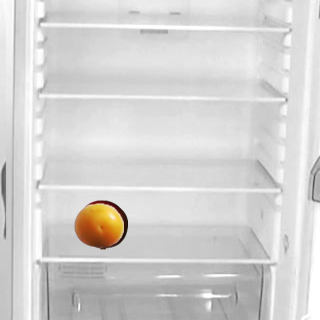Apple Braeburn: (77, 199, 127, 249)
Cherry Wax Yellow: (73, 199, 123, 249)
